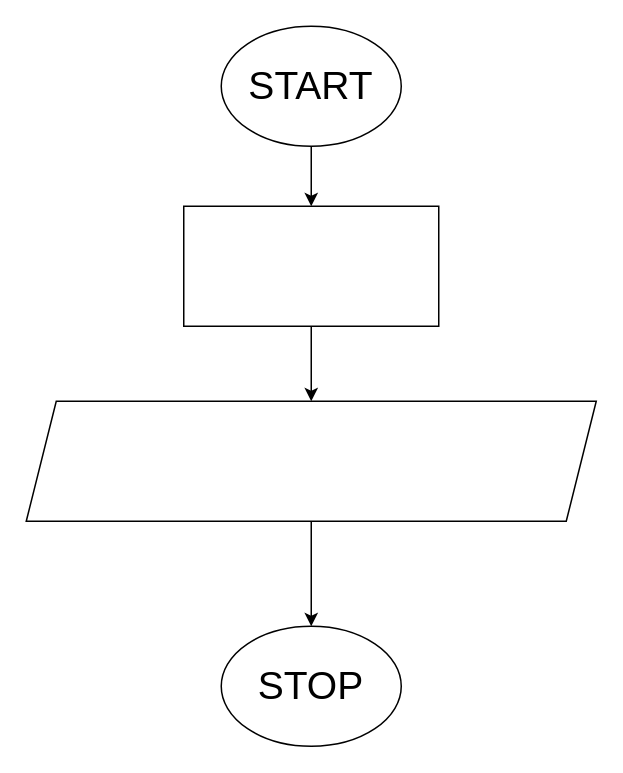
Image size: 623x773. Some labels were removed from this diagram. Here are the shapes that lost their labels. From the top down, the box of each, then its label:
(182, 205, 439, 326): p=math.pi n=4
(25, 400, 596, 521): print(p,math.sqrt(n),math.pow(n,4))
